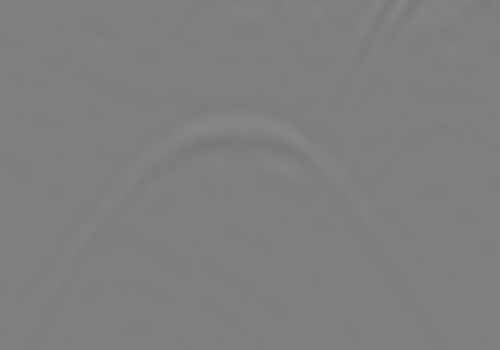hyperbola: (35, 108, 447, 330)
